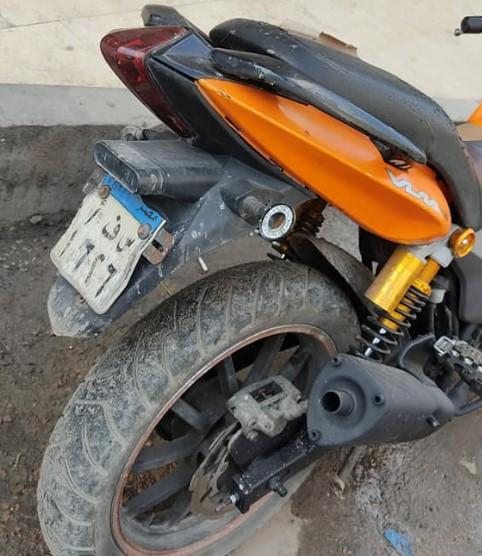License Plate: (40, 171, 158, 316)
